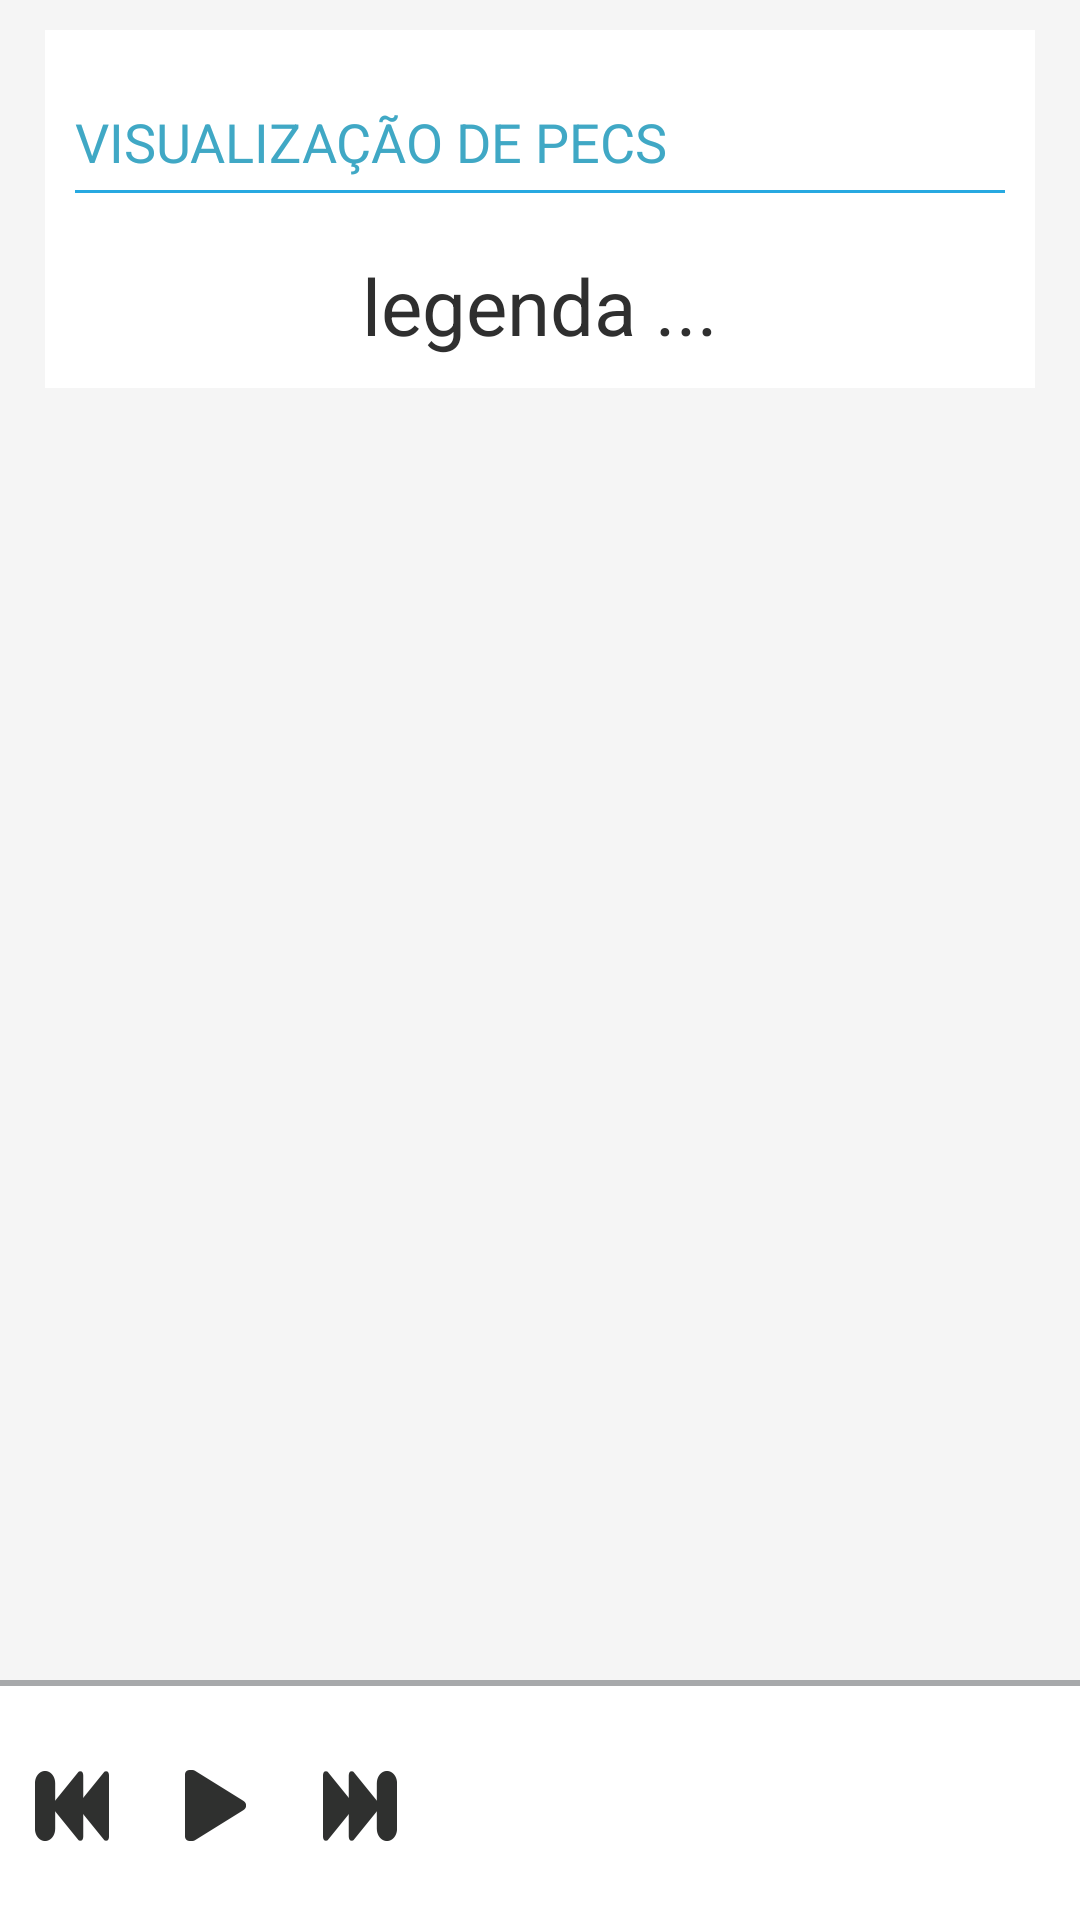

Screen size 1080px x 1920px. Icon name, then its center in pixels as point (x, y):
next: point (360, 1806)
play: point (215, 1805)
prev: point (72, 1806)
